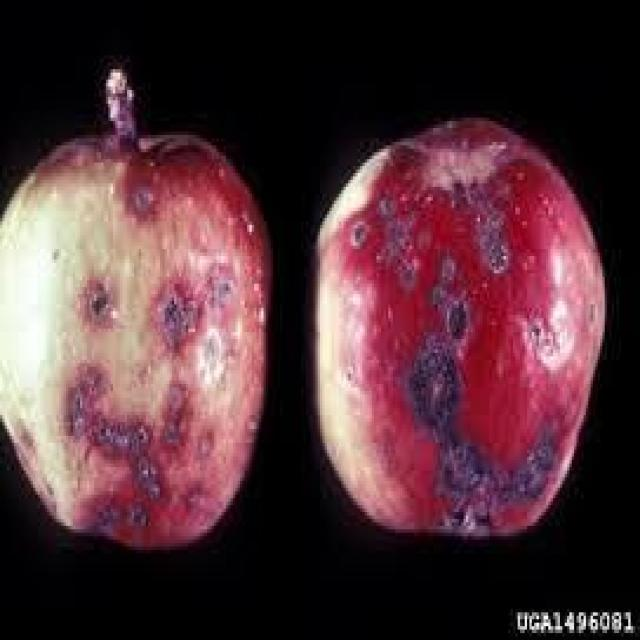maca: (0, 66, 271, 550), (310, 114, 604, 540)
